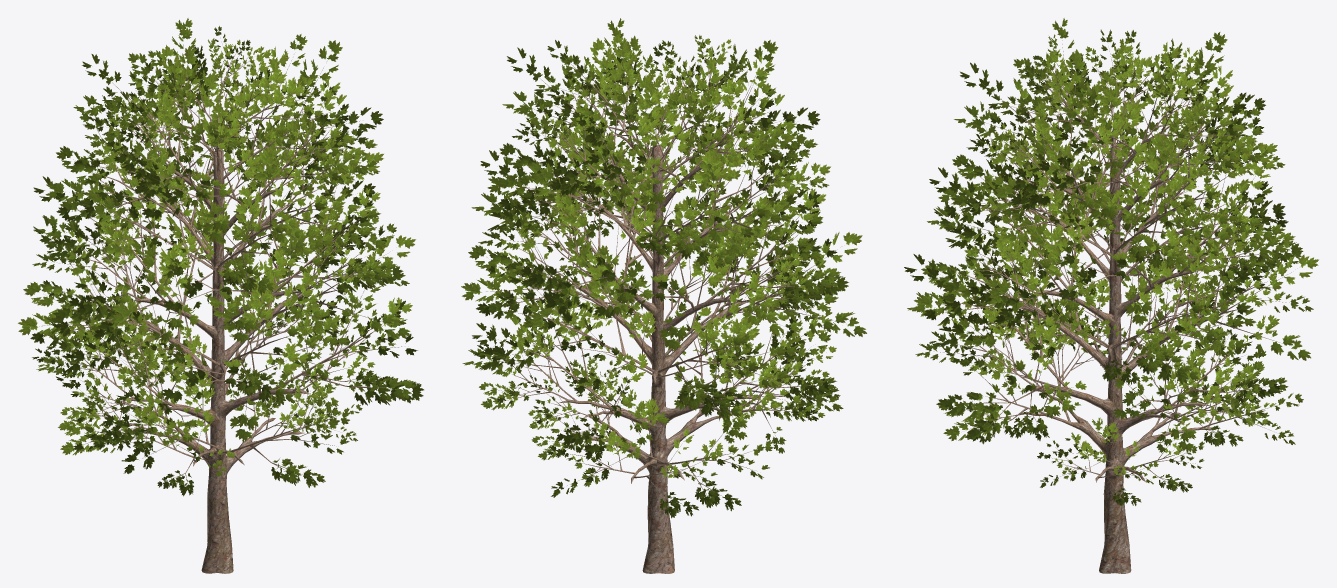
The model's file is maple.fbx.
The picture shows the model from 3 angles, left to right: view 1: azimuth 30°, elevation 25°; view 2: azimuth 150°, elevation 25°; view 3: azimuth 270°, elevation 25°; orthographic projection.
Visible parts, largest first — view 1: leaf maple_1, bark02_0; view 2: leaf maple_1, bark02_0; view 3: leaf maple_1, bark02_0.
Boxes of the visible parts, x1,y1,x2,y2 form: leaf maple_1: (18, 18, 423, 496); bark02_0: (36, 37, 401, 573); leaf maple_1: (461, 18, 866, 518); bark02_0: (481, 53, 837, 573); leaf maple_1: (904, 18, 1318, 505); bark02_0: (931, 36, 1291, 573).
Bounding box in the file's own units: 687 × 953 × 691.
Materials: 2 (2 with a texture image).
